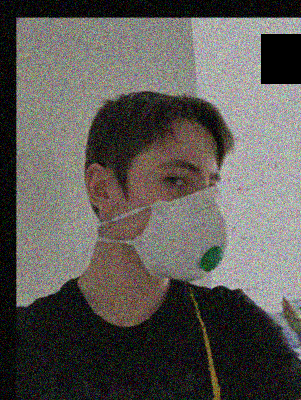with_mask: (140, 138, 229, 281)
